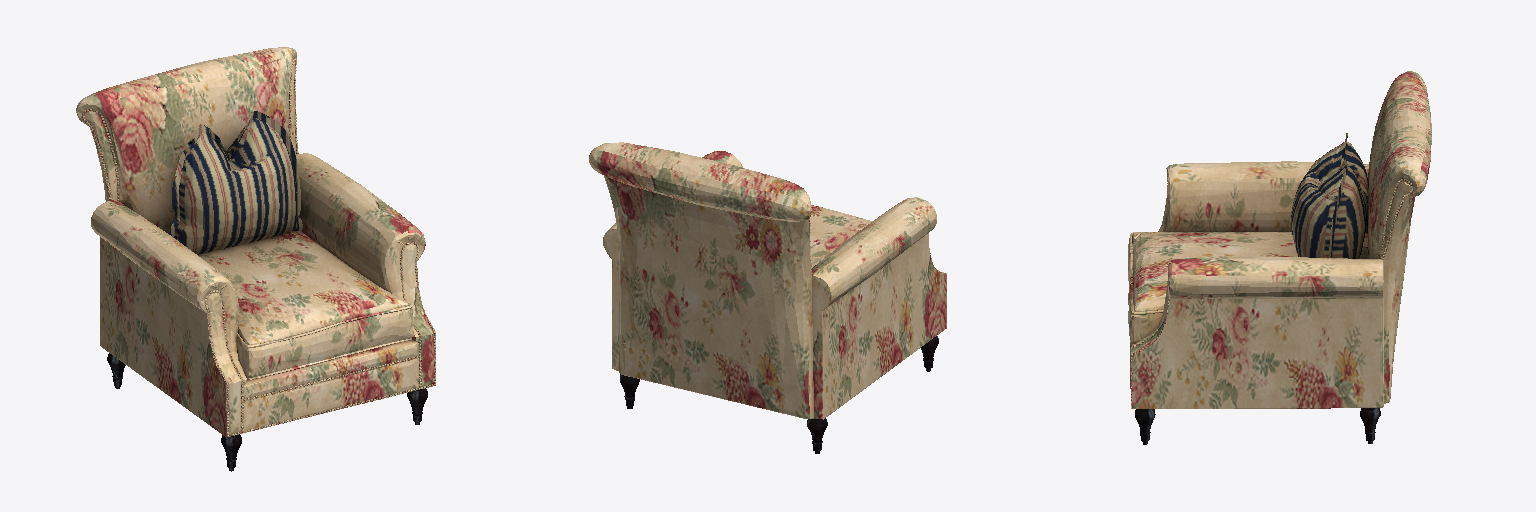
The picture shows the model from 3 angles: view 1: azimuth 30°, elevation 25°; view 2: azimuth 150°, elevation 25°; view 3: azimuth 270°, elevation 25°; orthographic projection.
Parts seen in each view (by area): view 1: solid; view 2: solid; view 3: solid.
Boxes of the visible parts, box(x1,y1,x2,y2) form: solid: box(76, 47, 435, 471); solid: box(589, 142, 946, 453); solid: box(1128, 71, 1431, 444).
Size of the model in its own units: 0.7554 by 0.8728 by 0.8475.
1 materials, 1 textured.